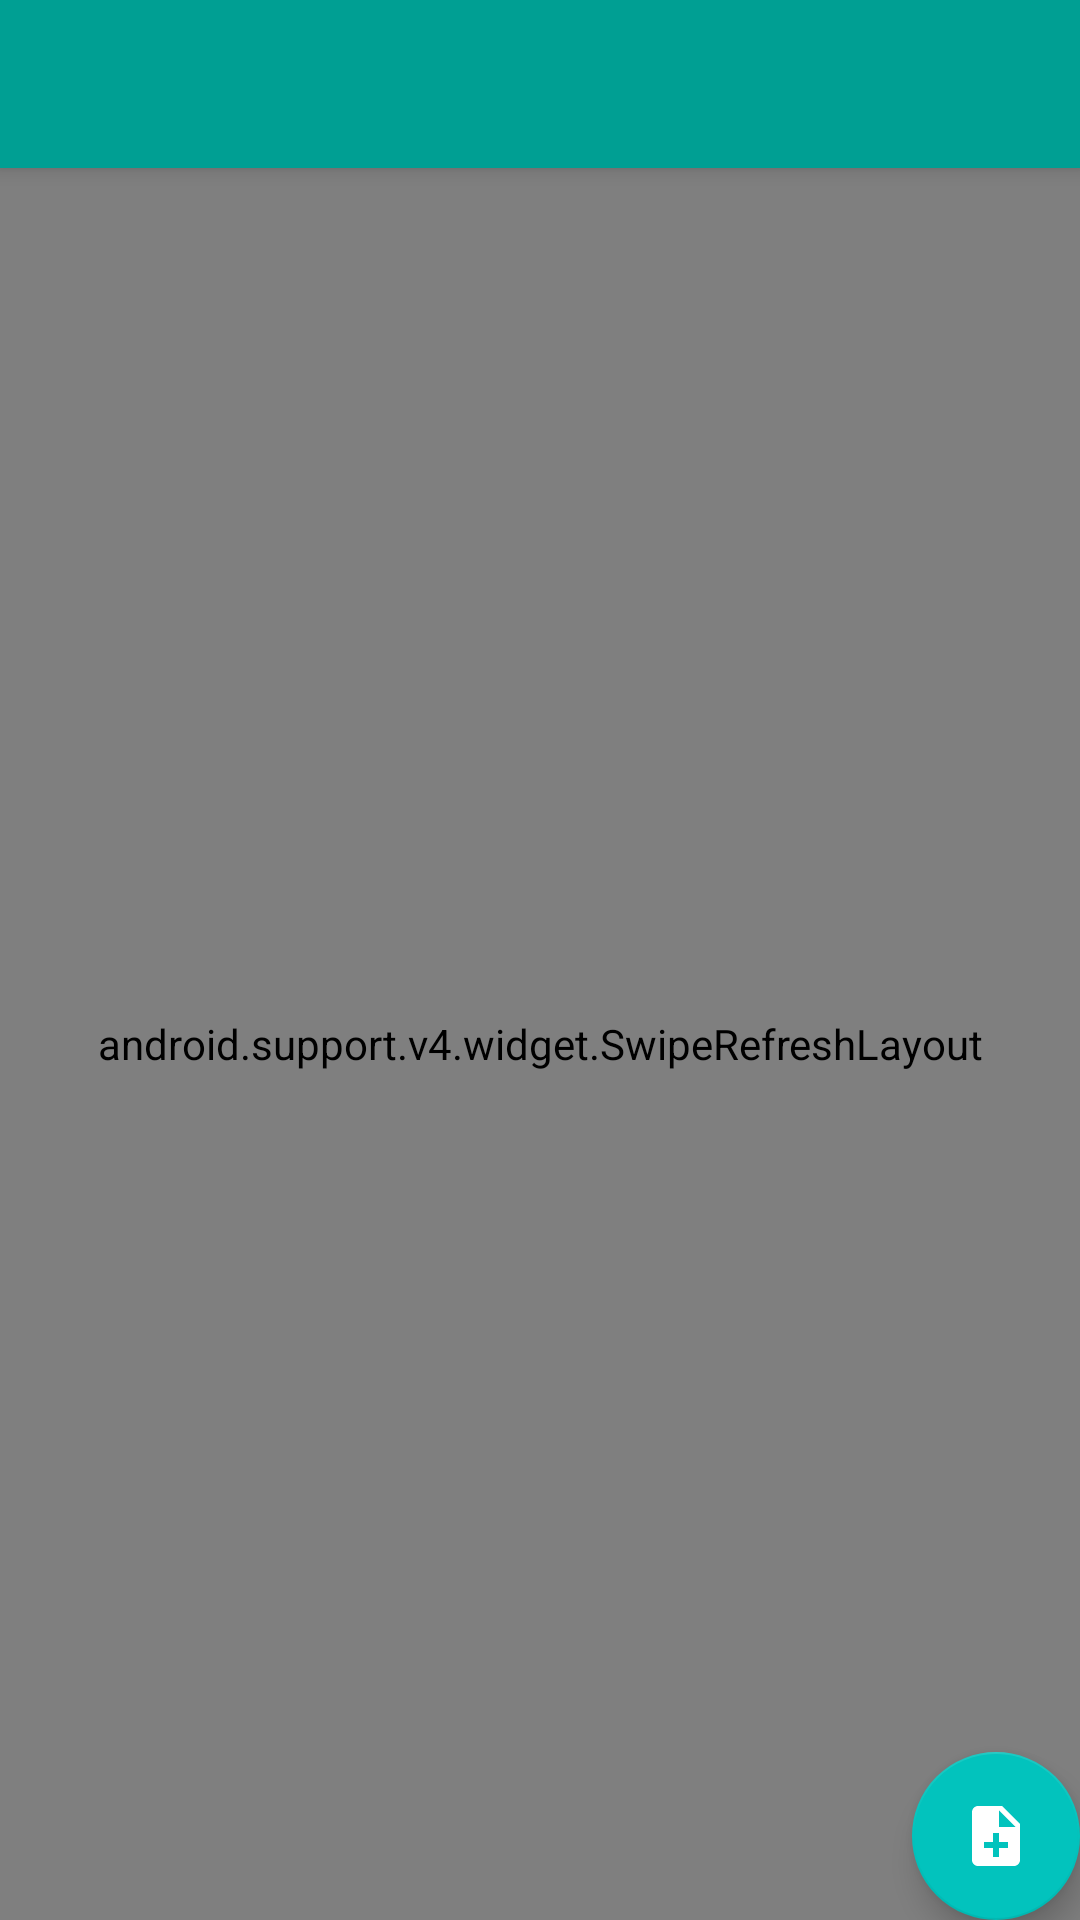

Icon bounding boxes for this 1080 x 1920 phone screenshot, format (x1, y1, x2, y2):
note: (912, 1752, 1080, 1920)
